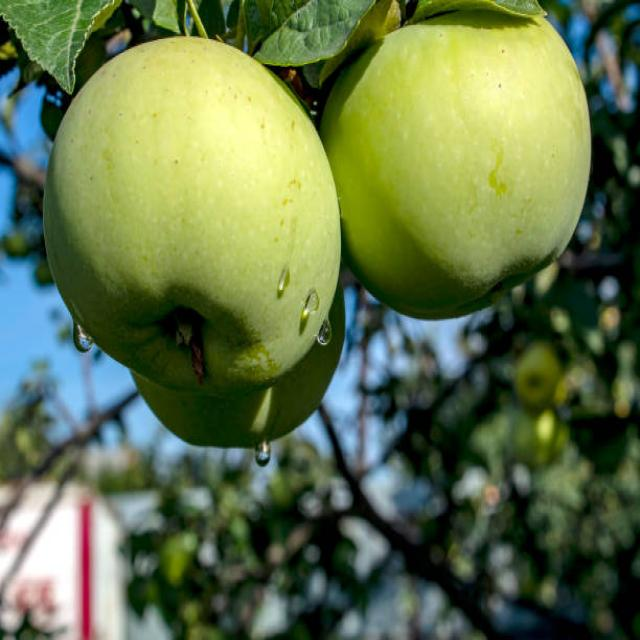Unripe: (42, 35, 341, 383), (327, 3, 590, 320)
